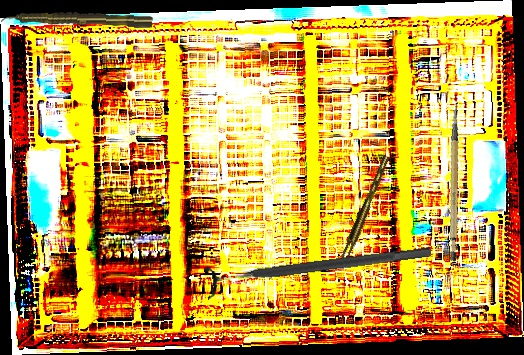Fixation Ring: (203, 233, 434, 302)
Handpiece: (1, 9, 153, 30)
Scalpel Handle: (430, 105, 482, 263)
Tissue Forceps: (335, 154, 395, 266)
